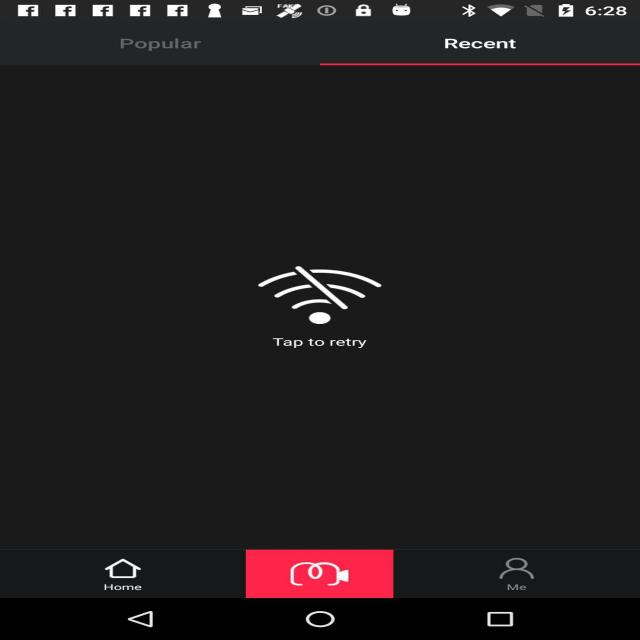button: (81, 532, 590, 638)
image: (24, 124, 640, 502)
